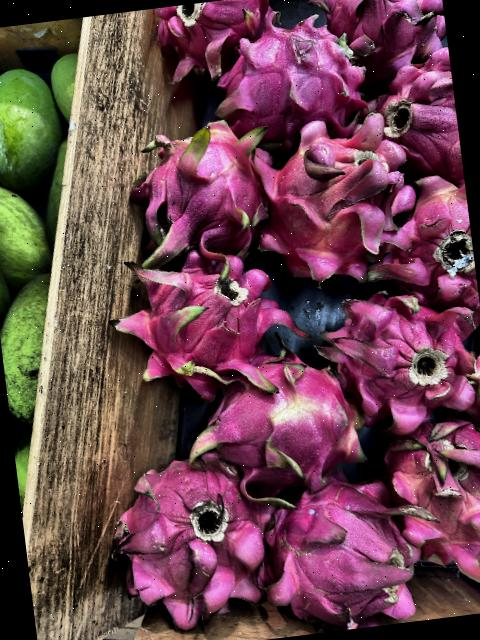buah-naga-belum-matang: (181, 344, 376, 498), (375, 403, 480, 575)
buah-naga-matang: (112, 225, 308, 398), (106, 445, 279, 636), (262, 458, 431, 636), (310, 258, 480, 432), (246, 106, 412, 280), (128, 103, 266, 264), (204, 7, 370, 140), (380, 166, 480, 312), (364, 43, 464, 181), (310, 0, 449, 70), (148, 0, 273, 66)
